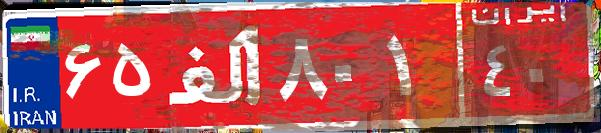0: (330, 28, 385, 110), (525, 38, 570, 115)
1: (385, 28, 445, 110)
4: (475, 38, 525, 113)
5: (110, 28, 158, 105)
6: (57, 26, 110, 107)
8: (273, 28, 330, 110)
الف: (158, 15, 273, 115)
